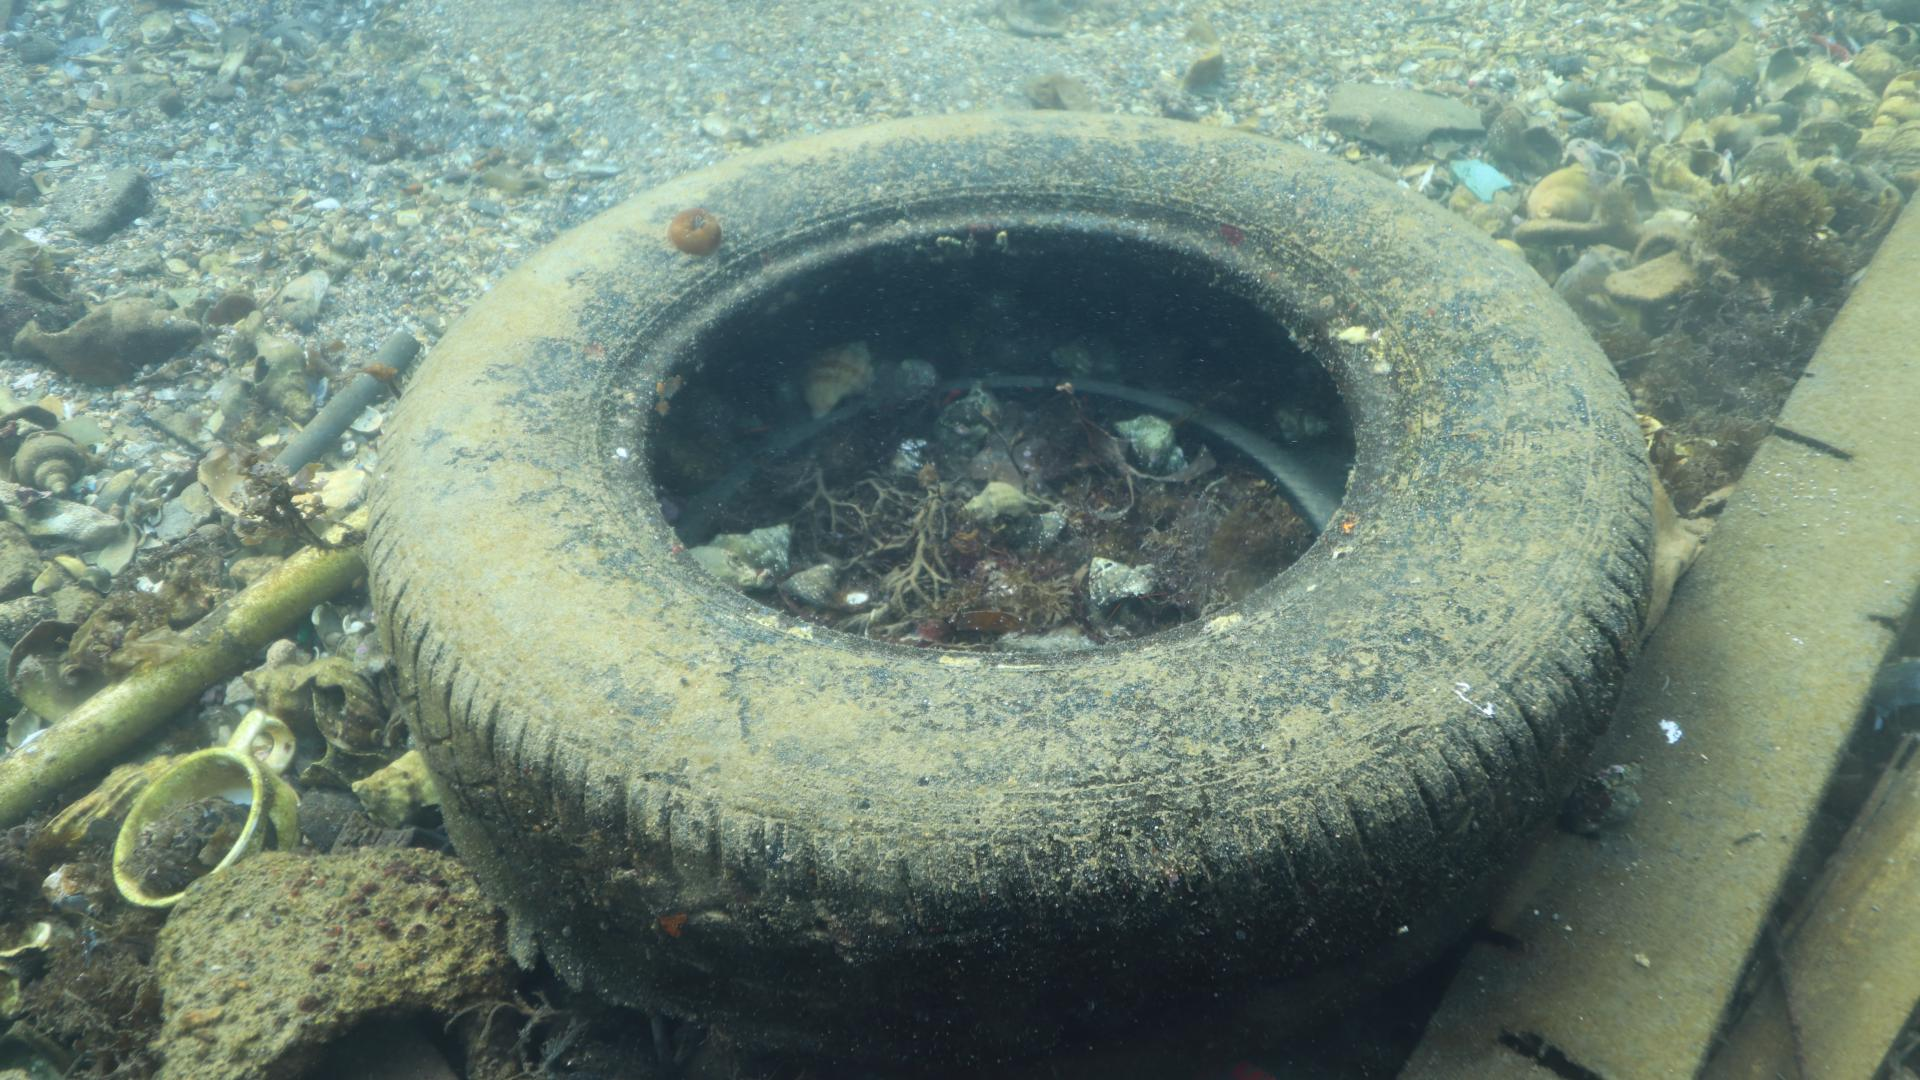tire: (361, 105, 1665, 1080)
wood: (1383, 183, 1920, 1080)
